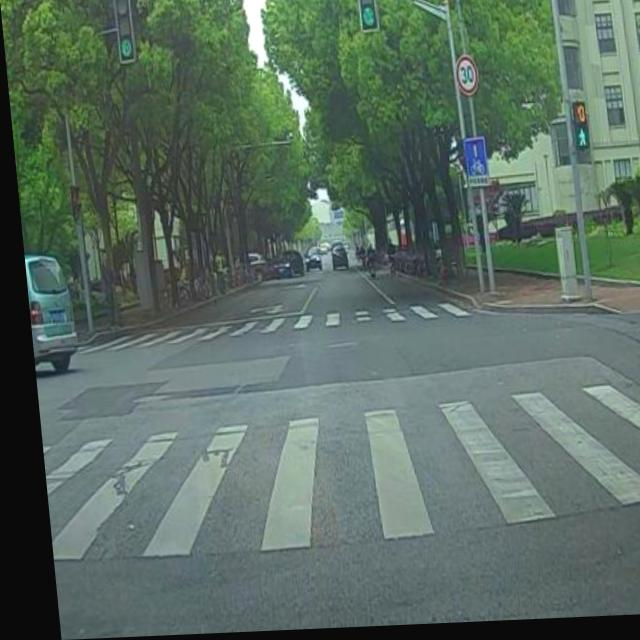limit100: (448, 56, 481, 106)
